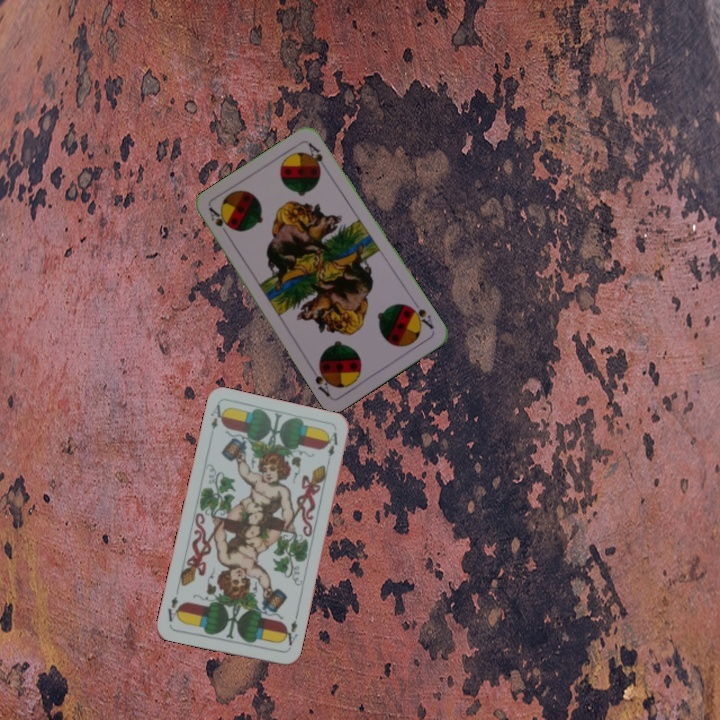EA: (279, 611, 301, 649), (207, 400, 228, 432)
SA: (205, 204, 233, 241), (404, 301, 436, 332)
